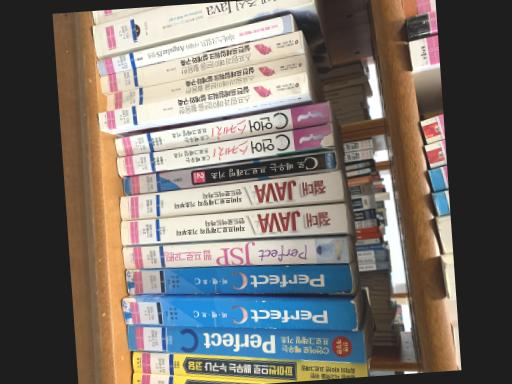book-spine: (90, 0, 313, 60), (98, 31, 303, 95), (95, 15, 291, 77), (96, 73, 304, 131), (105, 53, 305, 112), (113, 103, 329, 157), (116, 123, 331, 177), (118, 171, 342, 222), (126, 325, 364, 364), (119, 205, 345, 246), (122, 152, 336, 195), (121, 299, 356, 332), (120, 236, 347, 270), (131, 352, 367, 383), (125, 266, 352, 296), (131, 373, 279, 384)
